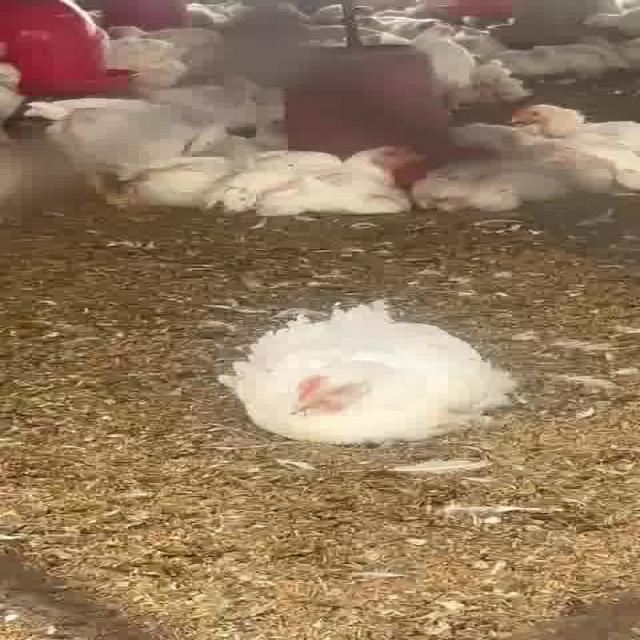AbNormal: (218, 312, 492, 445), (230, 146, 422, 217), (510, 101, 640, 158)
